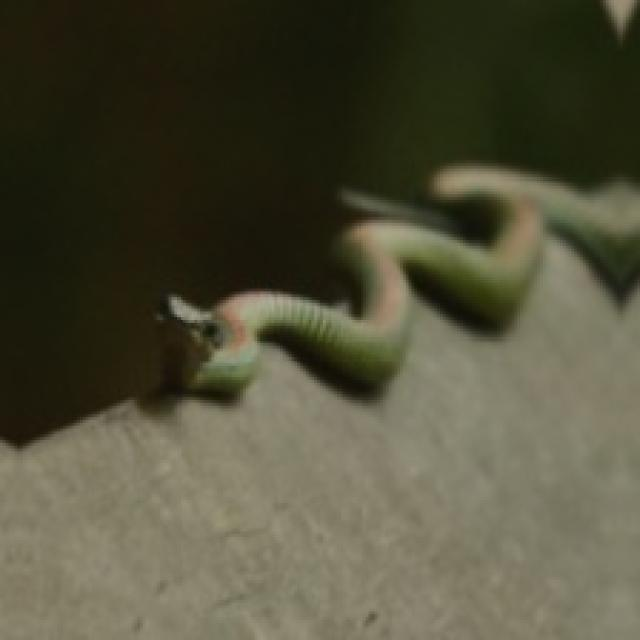paradise tree snake: (166, 163, 637, 391), (169, 166, 637, 391)
